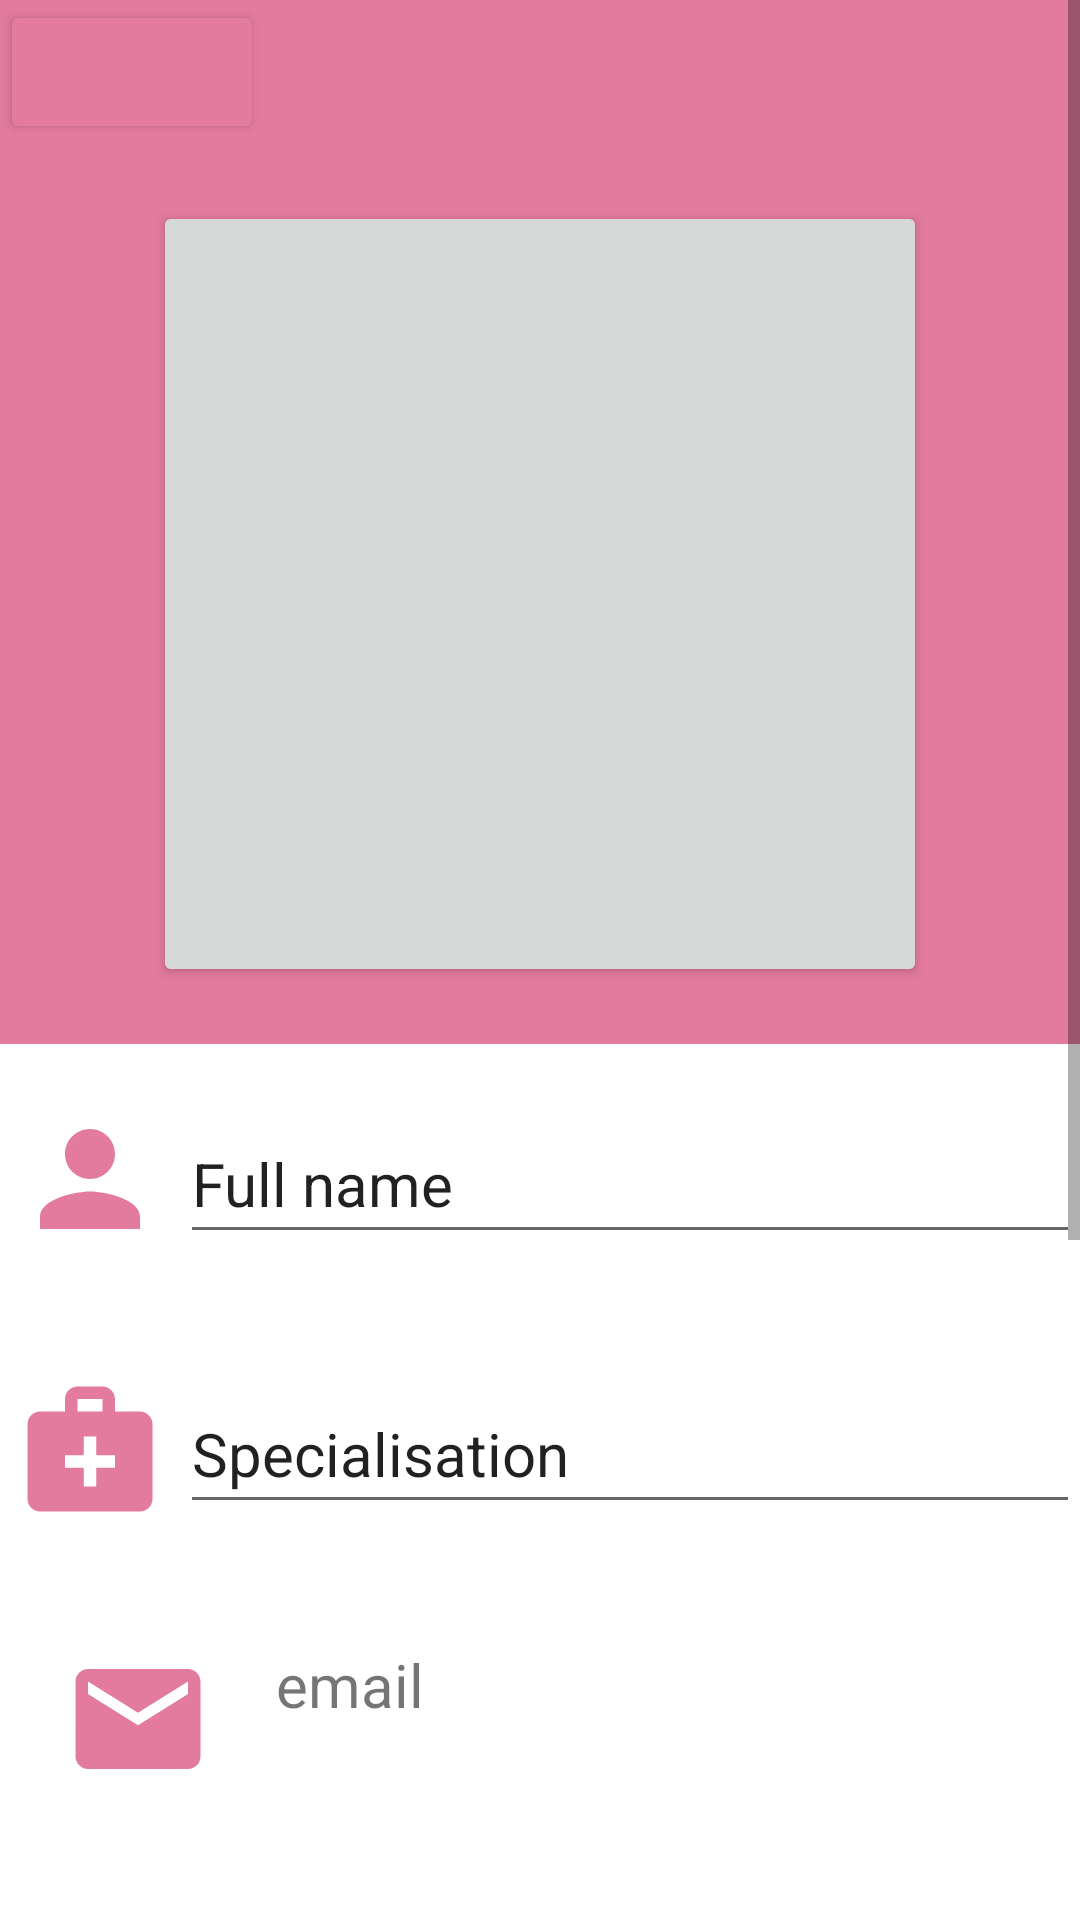

Where to tap for icons on this 1080*1920 app screen, as [x,y]:
medical services: [90,1449]
person: [90,1179]
